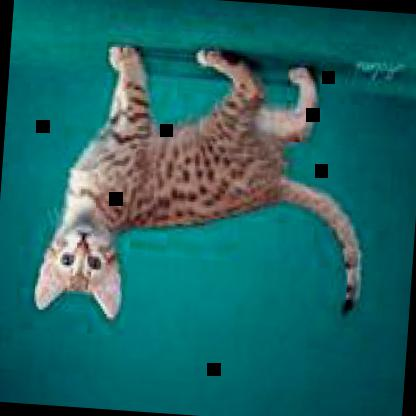cat: (33, 38, 381, 338)
